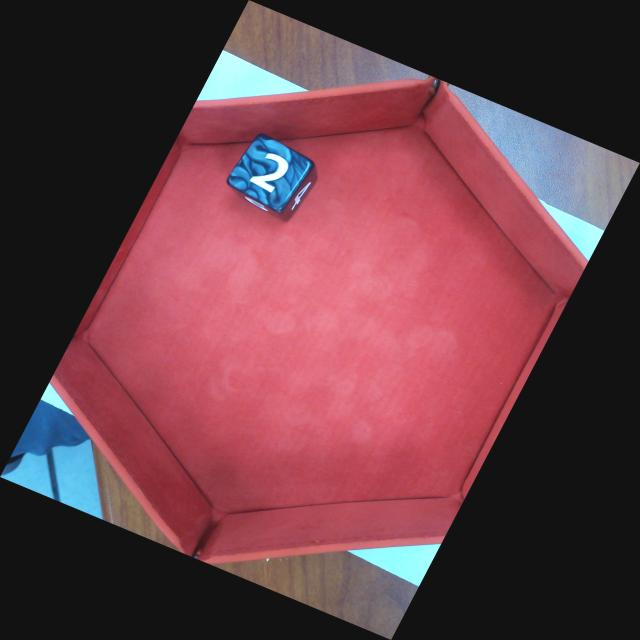dice: (226, 132, 315, 213)
